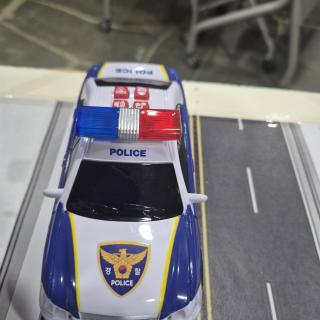Police_car: (40, 62, 208, 320)
